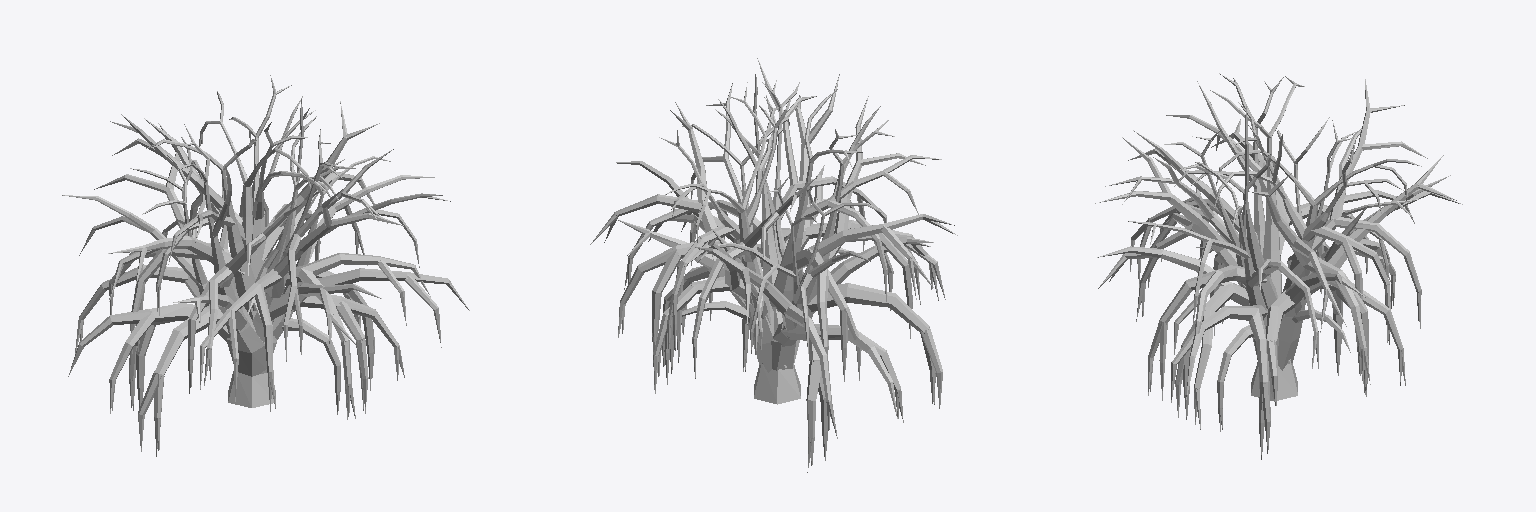
The model's file is tree15.obj.
3 views of the same model, side by side, from view 1: azimuth 30°, elevation 25°; view 2: azimuth 150°, elevation 25°; view 3: azimuth 270°, elevation 25° (orthographic).
Parts seen in each view (by area): view 1: tree; view 2: tree; view 3: tree.
Boxes of the visible parts, <box> form: tree: <box>62,75,469,456</box>; tree: <box>590,58,957,472</box>; tree: <box>1095,73,1462,459</box>.
Size of the model in its own units: 7.14 by 6.74 by 6.77.